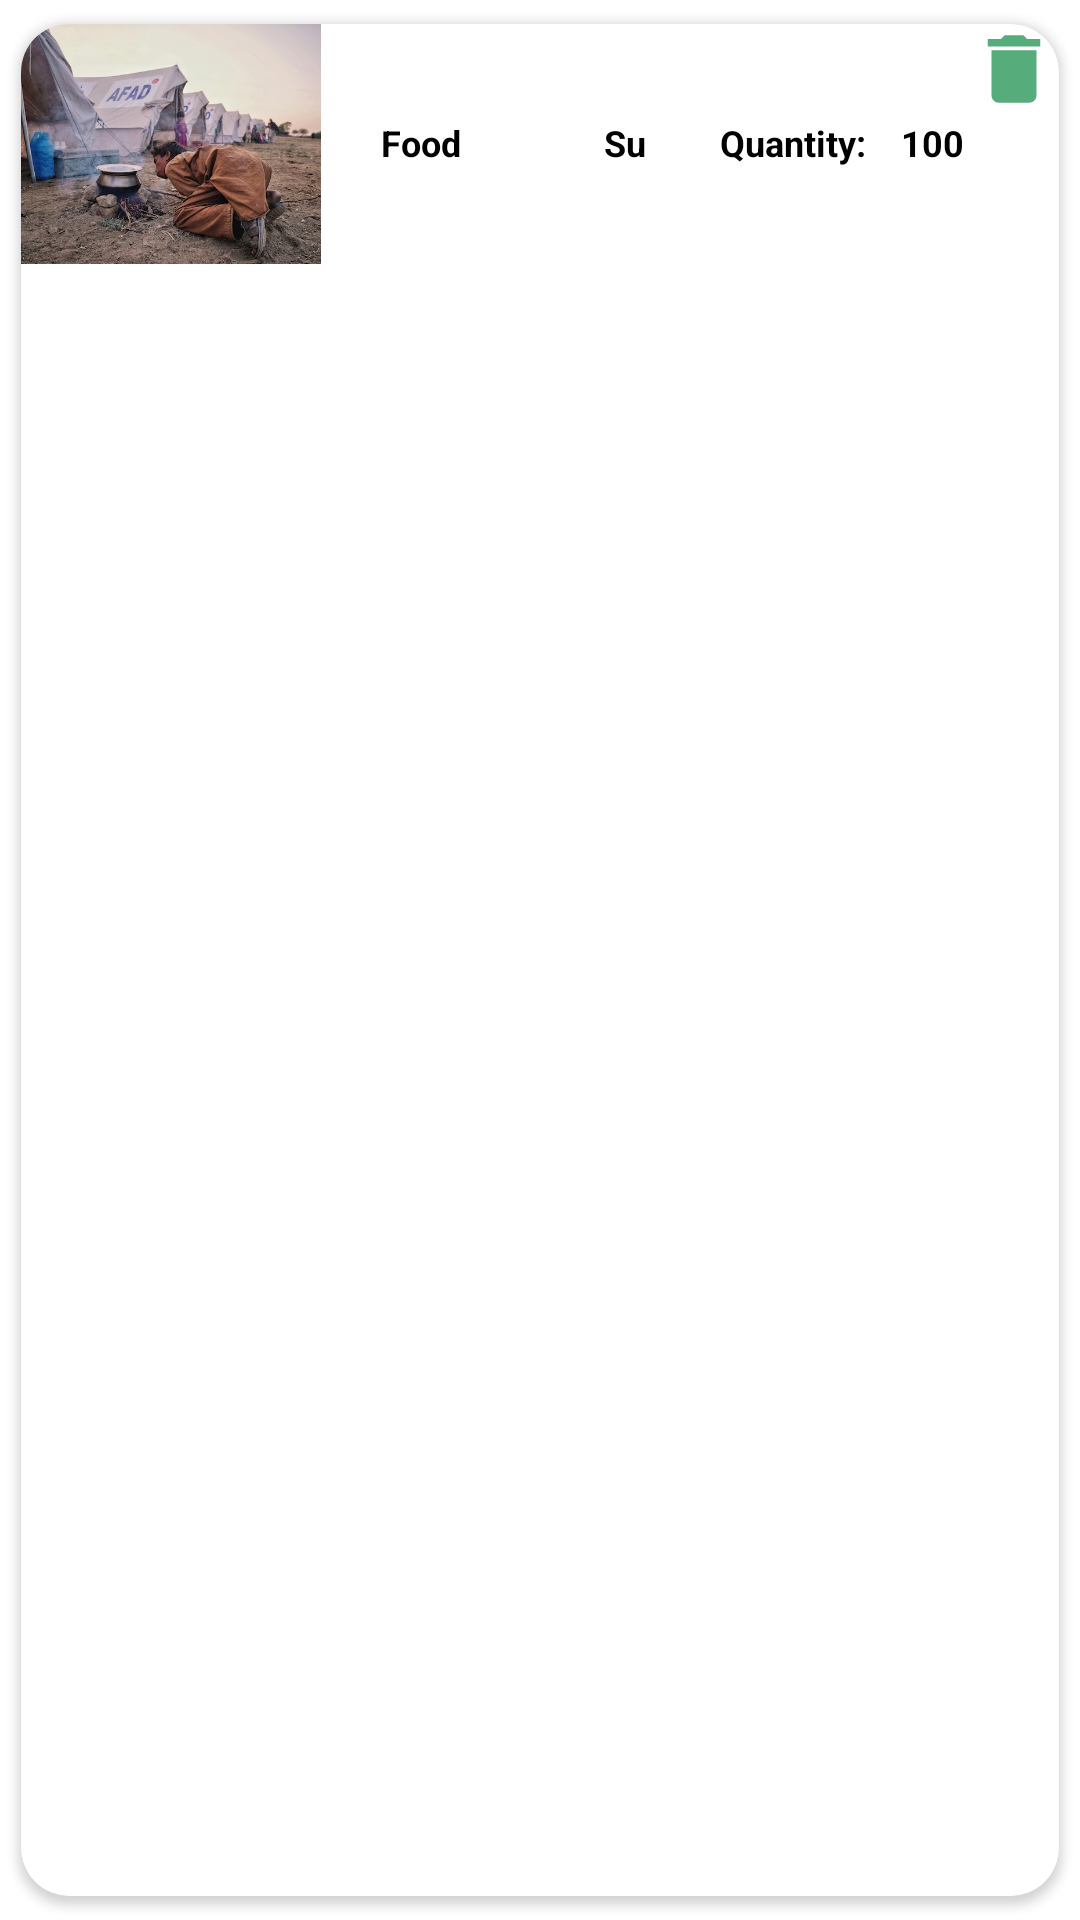

Named icons in this screenshot (1080×1920) and their centers, [x,y]:
delete: [1019,68]
